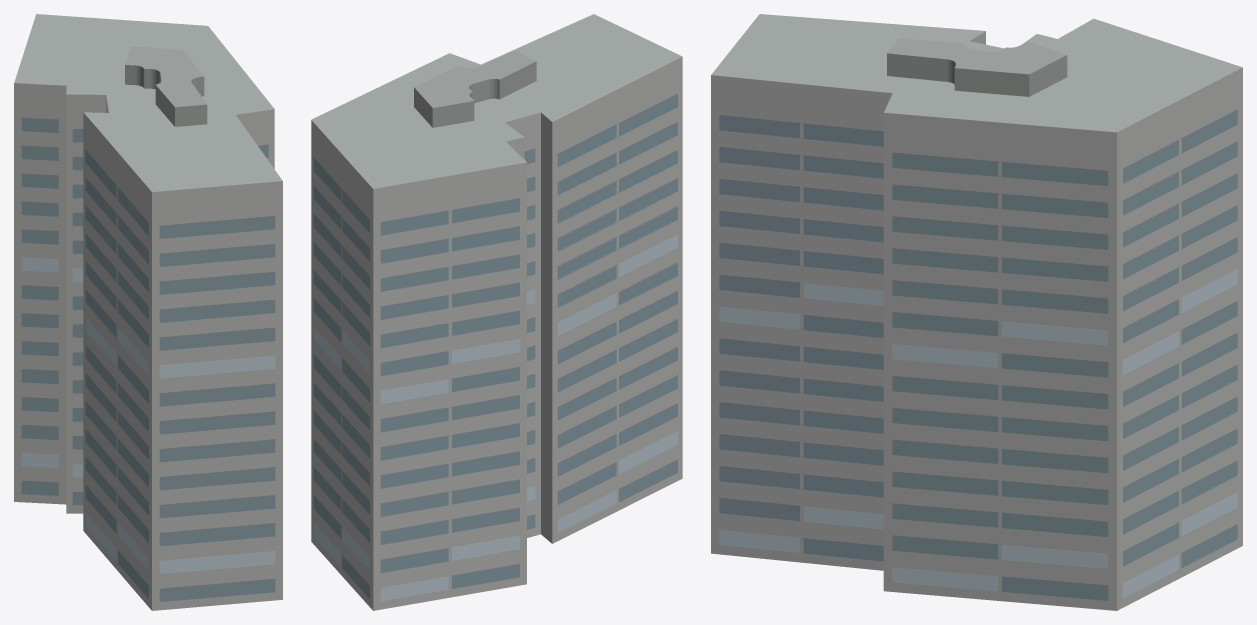
File: named-apt-5d95c050-6df4-4a5e-b7e7-7898bbee0cbf.glb
3 renders of one model, left to right at view 1: azimuth 30°, elevation 25°; view 2: azimuth 150°, elevation 25°; view 3: azimuth 270°, elevation 25°, orthographic. The views are drawn at different scales.
Visible parts, largest first — view 1: named-apt-5d95c050-6df4-4a5e-b7e7-7898bbee0cbf; view 2: named-apt-5d95c050-6df4-4a5e-b7e7-7898bbee0cbf; view 3: named-apt-5d95c050-6df4-4a5e-b7e7-7898bbee0cbf.
Part boxes in pixels (x1,y1,x2,y2): named-apt-5d95c050-6df4-4a5e-b7e7-7898bbee0cbf: (14,14,282,610); named-apt-5d95c050-6df4-4a5e-b7e7-7898bbee0cbf: (311,14,682,610); named-apt-5d95c050-6df4-4a5e-b7e7-7898bbee0cbf: (711,14,1242,610).
Bounding box in the file's own units: 26.37 × 52 × 50.04.
